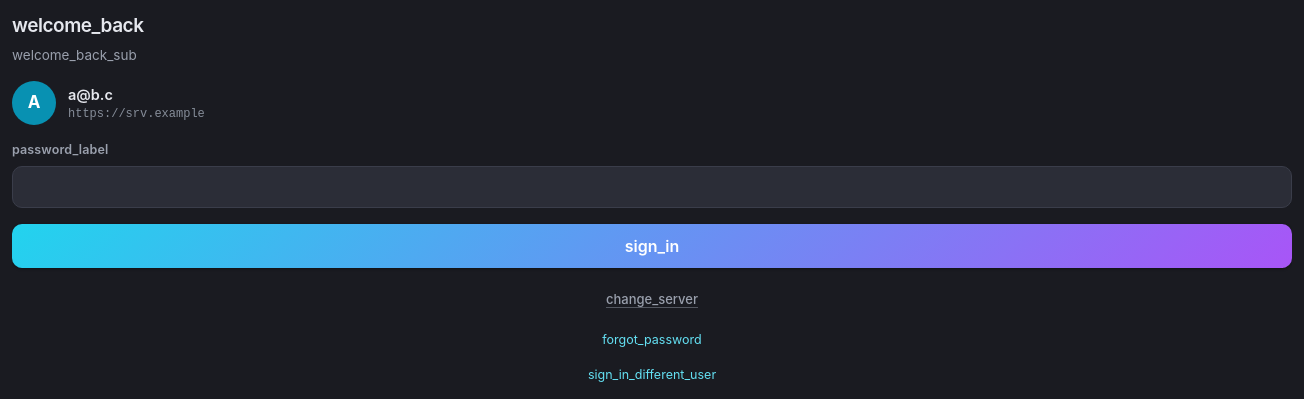
Scenario: AddIdentityWizard › surfaces server_unreachable, not invalid_credentials, when locked resolution fails after an early credentials submit
In the password field with test id "wizard-password-input": coordinates (652, 186) [12, 166, 1292, 208], type "pw"
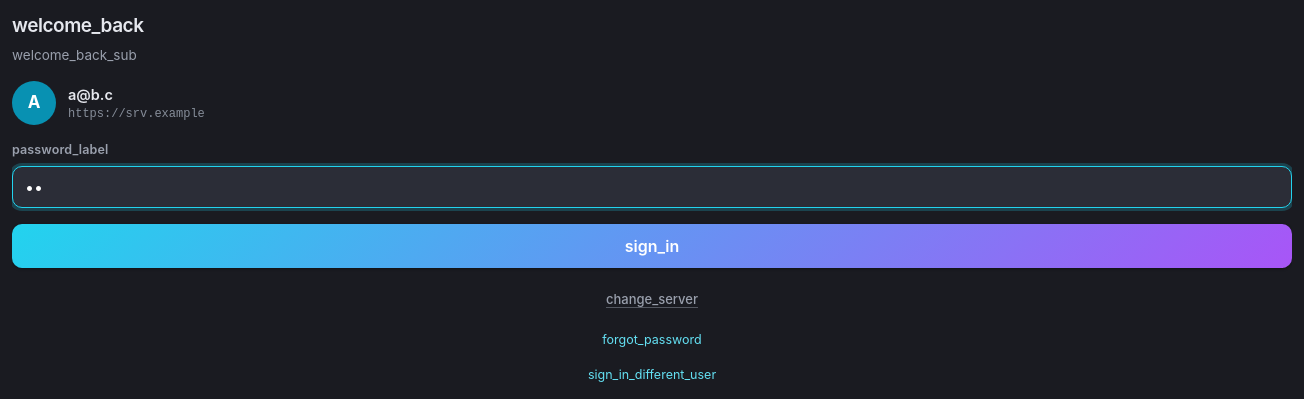
Click the button with test id "wizard-credentials-submit": coordinates (652, 246) [12, 224, 1292, 268]
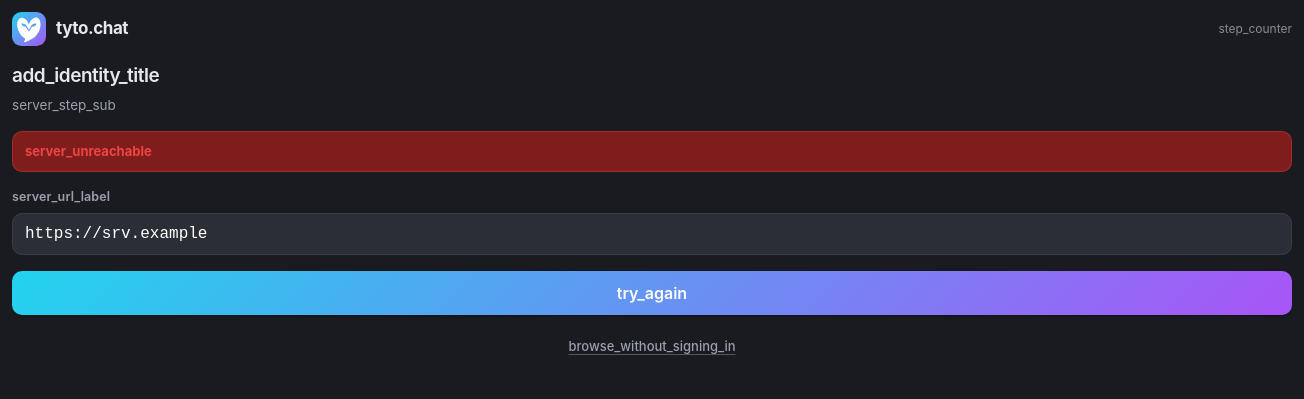
Check: the text "server_unreachable" is shown, box [25, 143, 152, 159]
Check: the password field "invalid email or password" is gone
Check: the field with test id "wizard-server-input" is shown, box [12, 213, 1292, 255]
